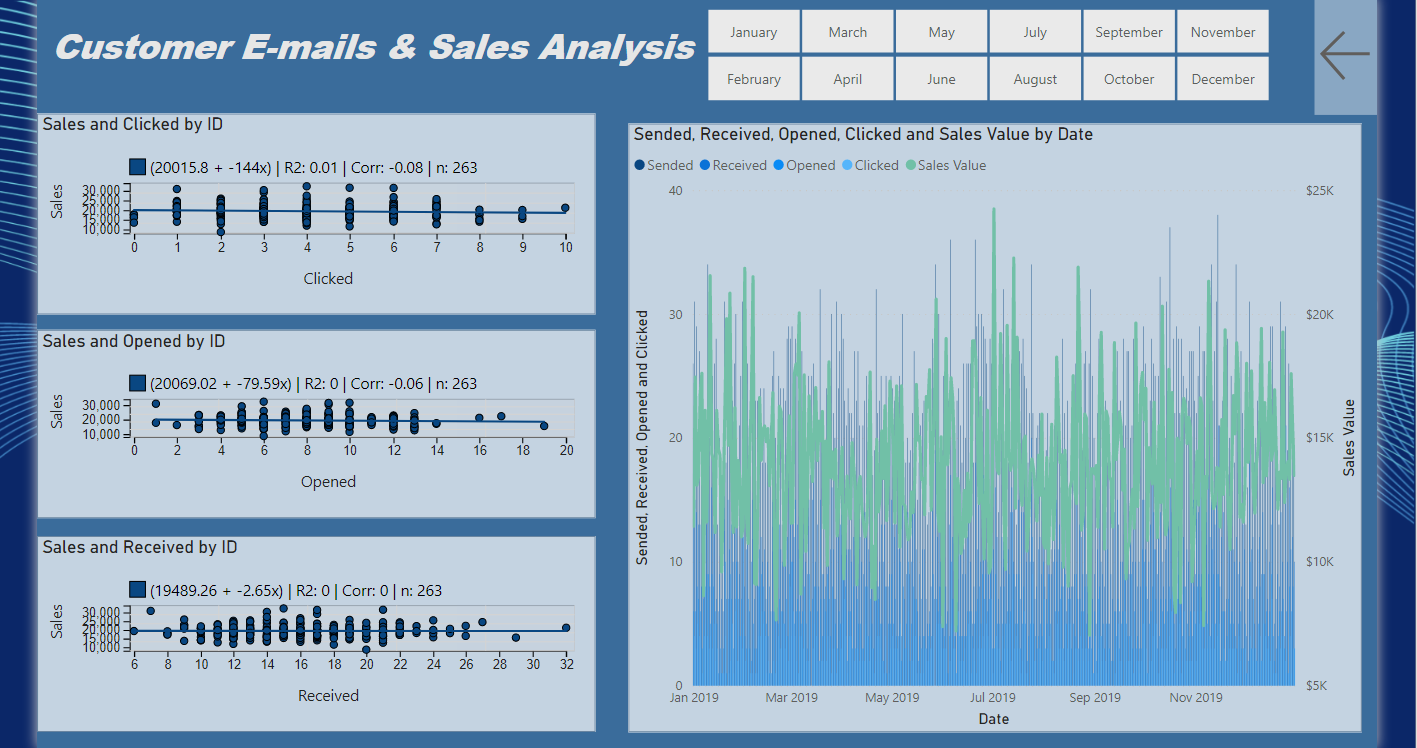

The dashboard page shown, as its layout file describes it:
{"tool":"powerbi","page":{"name":"Page 3","canvas":[1280,720],"ordinal":2},"visuals":[{"type":"shape","box":[564.8,121.8,700.9,581.5],"z":0},{"type":"lineClusteredColumnComboChart","fields":{"Y":["Email.Sended","Email.Received","Email.Opened","Email.Clicked"],"Y2":["Sum(CustomerSales.Sales Value)"],"Category":["Dates.Date"]},"box":[564.8,121.8,700.9,581.5],"z":1000},{"type":"shape","box":[0,112,533.6,192.1],"z":2000},{"type":"shape","box":[0,318.8,533.7,180.3],"z":3000},{"type":"shape","box":[0,515.8,533.7,187.5],"z":4000},{"type":"cdRegressionChartFEDFE3FECE5F4724A9EAF1D1F0D509A3","fields":{"y":["Sales.Sales"],"uniqueID":["Costumer.ID"],"x":["Email.Received"]},"box":[0,515.8,533.7,187.5],"z":5000},{"type":"cdRegressionChartFEDFE3FECE5F4724A9EAF1D1F0D509A3","fields":{"y":["Sales.Sales"],"uniqueID":["Costumer.ID"],"x":["Email.Opened"]},"box":[0,318.8,533.7,180.3],"z":6000},{"type":"cdRegressionChartFEDFE3FECE5F4724A9EAF1D1F0D509A3","fields":{"y":["Sales.Sales"],"uniqueID":["Costumer.ID"],"x":["Email.Clicked"]},"box":[0,112,533.6,192.1],"z":7000},{"type":"textbox","box":[0,20.3,640,81.2],"z":8000},{"type":"slicer","fields":{"Values":["Dates.MonthName"]},"box":[614.7,6.1,585.7,100.4],"z":10000},{"type":"actionButton","box":[1220.3,0,59.7,113.4],"z":10001}]}

Visuals, with their boxes on the page's 1280x720 design canvas (x1, y1, x2, y2). These are canvas units, not pixel positions in the 1417x748 screenshot, which may show the page scaled, cropped or inside an application window:
shape: [x1=565, y1=122, x2=1266, y2=703]
lineClusteredColumnComboChart - Email.Sended x Email.Received: [x1=565, y1=122, x2=1266, y2=703]
shape: [x1=0, y1=112, x2=534, y2=304]
shape: [x1=0, y1=319, x2=534, y2=499]
shape: [x1=0, y1=516, x2=534, y2=703]
cdRegressionChartFEDFE3FECE5F4724A9EAF1D1F0D509A3 - Sales.Sales x Costumer.ID: [x1=0, y1=516, x2=534, y2=703]
cdRegressionChartFEDFE3FECE5F4724A9EAF1D1F0D509A3 - Sales.Sales x Costumer.ID: [x1=0, y1=319, x2=534, y2=499]
cdRegressionChartFEDFE3FECE5F4724A9EAF1D1F0D509A3 - Sales.Sales x Costumer.ID: [x1=0, y1=112, x2=534, y2=304]
textbox: [x1=0, y1=20, x2=640, y2=102]
slicer - Dates.MonthName: [x1=615, y1=6, x2=1200, y2=106]
actionButton: [x1=1220, y1=0, x2=1280, y2=113]
